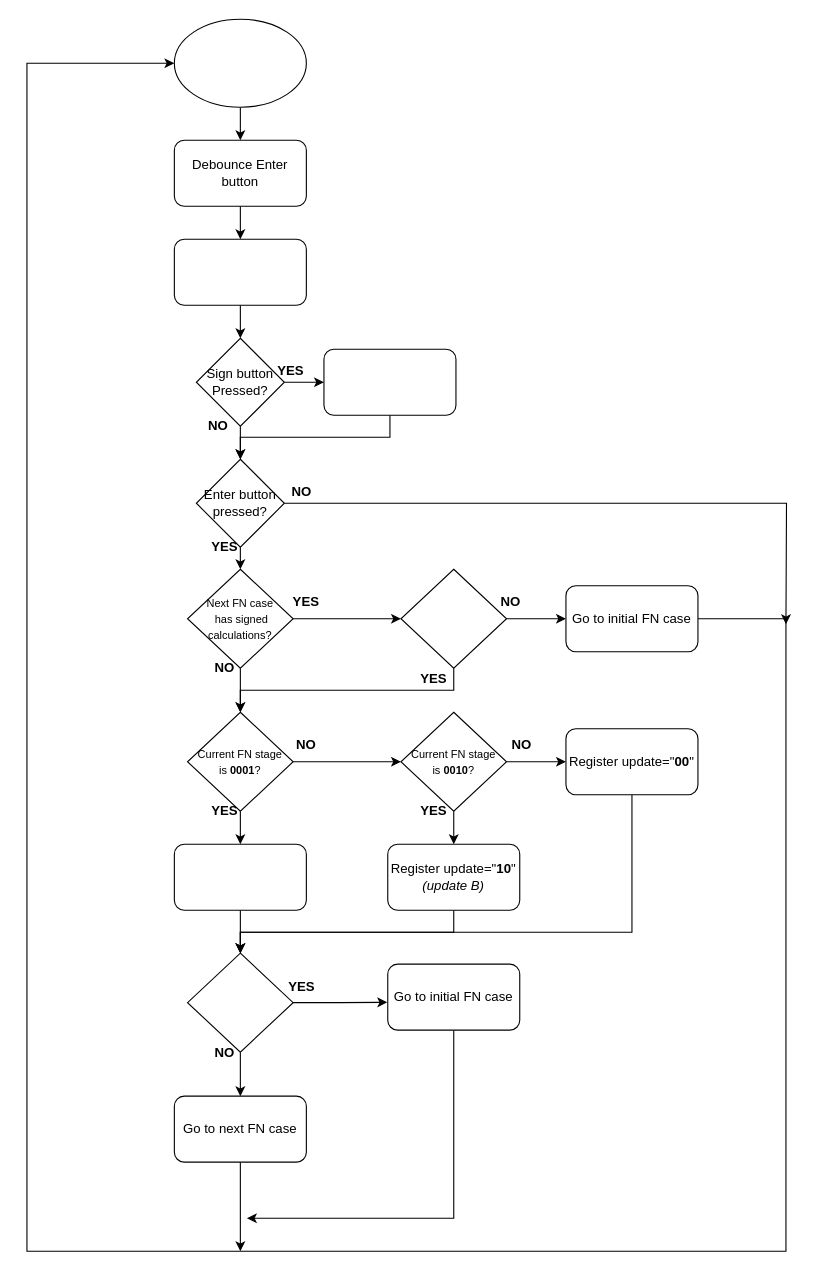
Some shapes in this 815 by 1279 pixel diagram are drawn without their labels. The centre of each missing label's shape, as x and y in pixels:
Current FN stage is 1100 ?: pixel 239 1002
Debounce Sign button: pixel 239 271
Register update= "01" (update A): pixel 239 876
sign_enabled= !sign_enabled: pixel 389 381
sign_enabled='1'?: pixel 453 618
START: pixel 239 62
